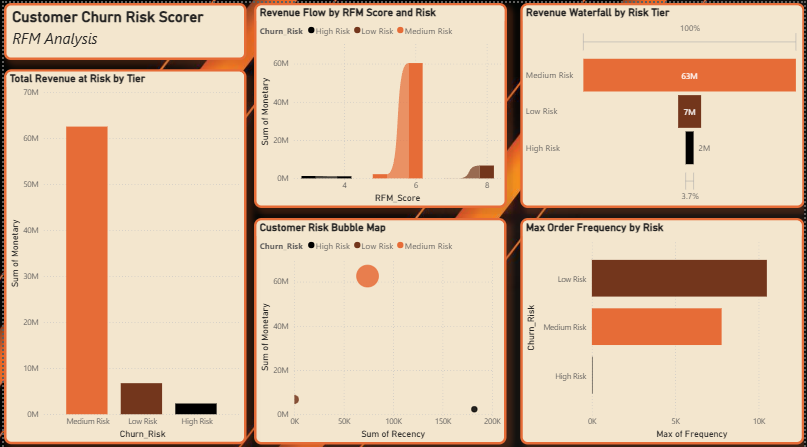

Layout of this report page (visuals, bound fields, positions):
{"tool":"powerbi","page":{"name":"Segment Deep Dive","canvas":[1280,720],"ordinal":1},"visuals":[{"type":"textbox","title":"Customer Churn Risk Scorer ","box":[0,0,388.1,91],"z":0},{"type":"scatterChart","title":"Customer Risk Bubble Map","fields":{"X":["Sum(rfm_scored_customers.Recency)"],"Y":["Sum(rfm_scored_customers.Monetary)"],"Size":["Sum(rfm_scored_customers.Frequency)"],"Series":["rfm_scored_customers.Churn_Risk"]},"box":[400,344,404,362],"z":4000},{"type":"clusteredColumnChart","title":"Total Revenue at Risk by Tier","fields":{"Category":["rfm_scored_customers.Churn_Risk"],"Y":["Sum(rfm_scored_customers.Monetary)"]},"box":[0,106,388,600],"z":5000},{"type":"funnel","title":"Revenue Waterfall by Risk Tier","fields":{"Category":["rfm_scored_customers.Churn_Risk"],"Y":["Sum(rfm_scored_customers.Monetary)"]},"box":[825.4,0,455.2,328.4],"z":6000},{"type":"ribbonChart","title":"Revenue Flow by RFM Score and Risk","fields":{"Series":["rfm_scored_customers.Churn_Risk"],"Category":["rfm_scored_customers.RFM_Score"],"Y":["Sum(rfm_scored_customers.Monetary)"]},"box":[400,0,404.5,328.4],"z":7000},{"type":"clusteredBarChart","title":"Max Order Frequency by Risk","fields":{"Category":["rfm_scored_customers.Churn_Risk"],"Y":["Max(rfm_scored_customers.Frequency)"]},"box":[826,344,454,362],"z":9000}]}

Visuals, with their boxes in screenshot pixels (x1, y1, x2, y2), scaled from the page's 1280x720 canvas onto the 807x447 screenshot:
"Customer Churn Risk Scorer " textbox: l=0, t=0, r=245, b=56
"Customer Risk Bubble Map" scatterChart: l=252, t=214, r=507, b=438
"Total Revenue at Risk by Tier" clusteredColumnChart: l=0, t=66, r=245, b=438
"Revenue Waterfall by Risk Tier" funnel: l=520, t=0, r=806, b=204
"Revenue Flow by RFM Score and Risk" ribbonChart: l=252, t=0, r=507, b=204
"Max Order Frequency by Risk" clusteredBarChart: l=521, t=214, r=806, b=438
